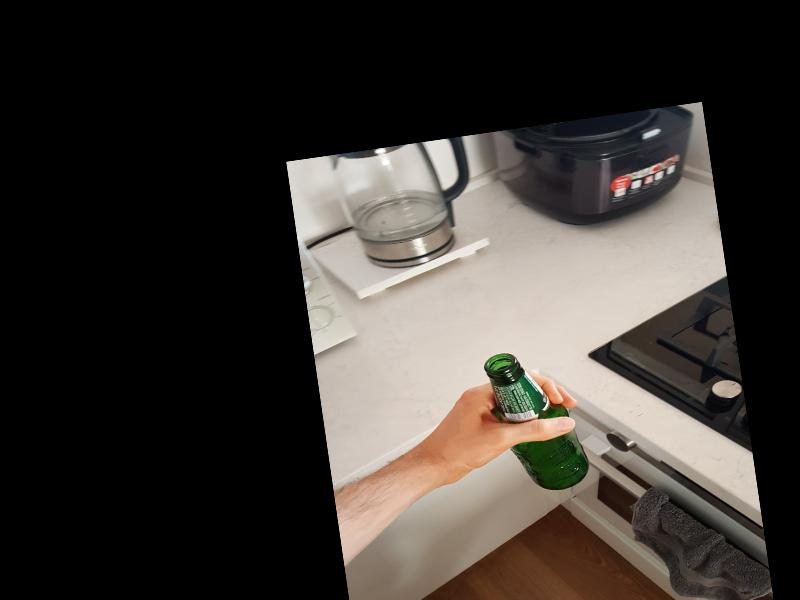Beer: (482, 344, 592, 499)
